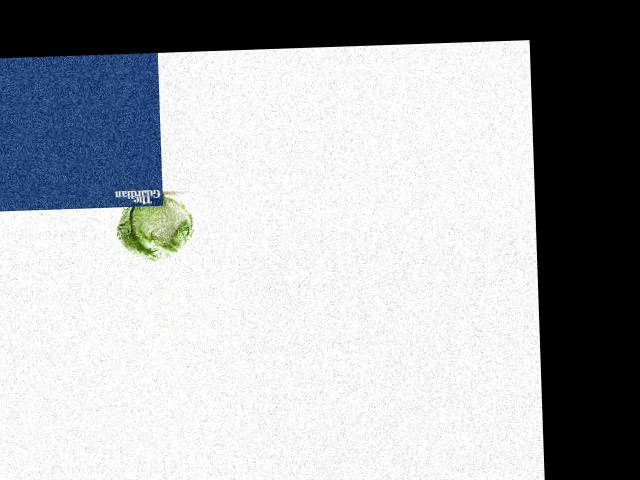lettuce: (117, 196, 193, 265)
